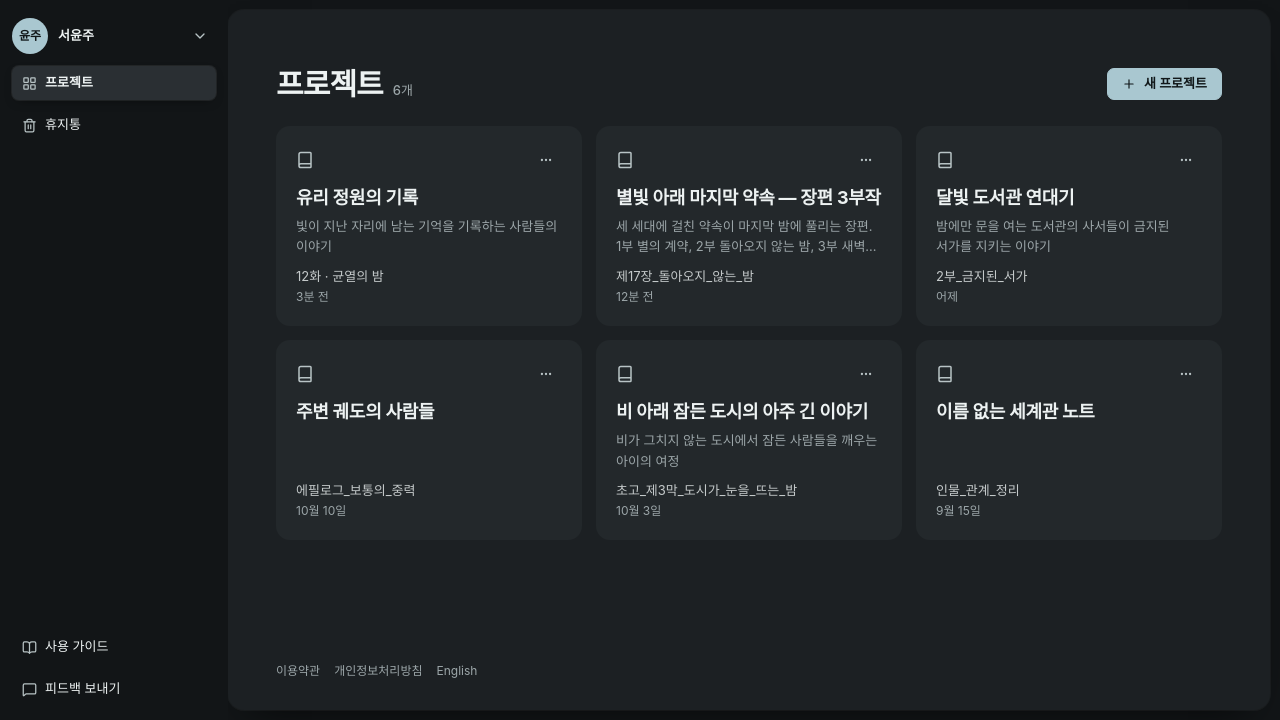
Test case: ProjectListPage › edits the title and description from the card menu
The width and height of the screenshot is (1280, 720).
Click the button named "달빛 도서관 연대기 더보기": [1186, 160] box [1170,144,1202,176]
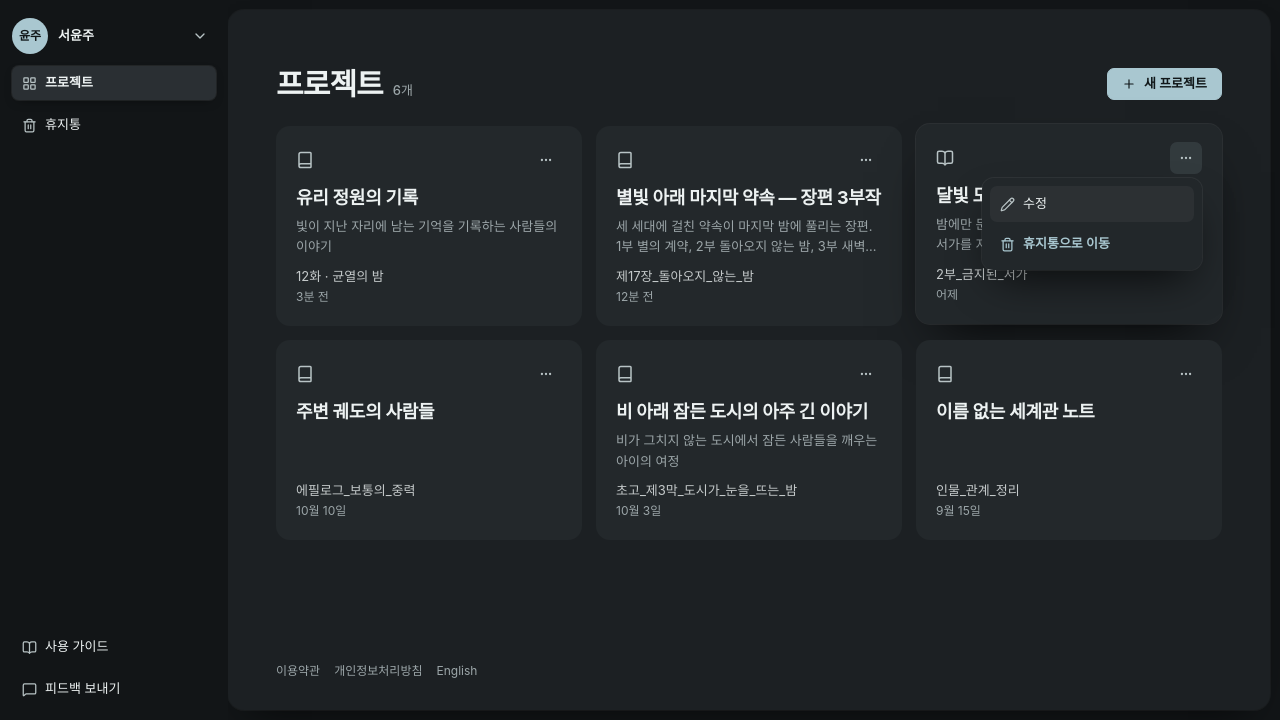
Click the menu item "수정": [1092, 204] box [990,186,1194,222]
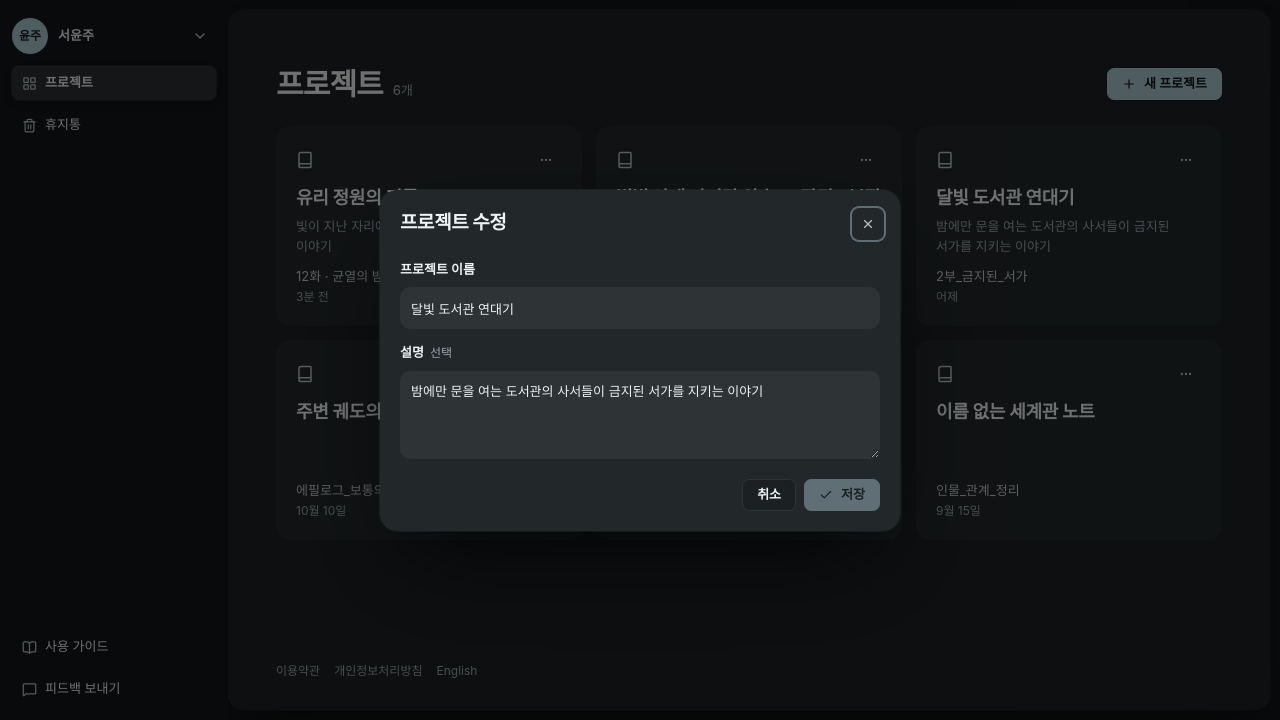
Expected: the button "저장" is disabled, [804,478,880,510]
Replace the text in the text box labelled "설명" with "  금지된 서가를 지키는 사서들  ": [640, 414] box [400,370,880,458]
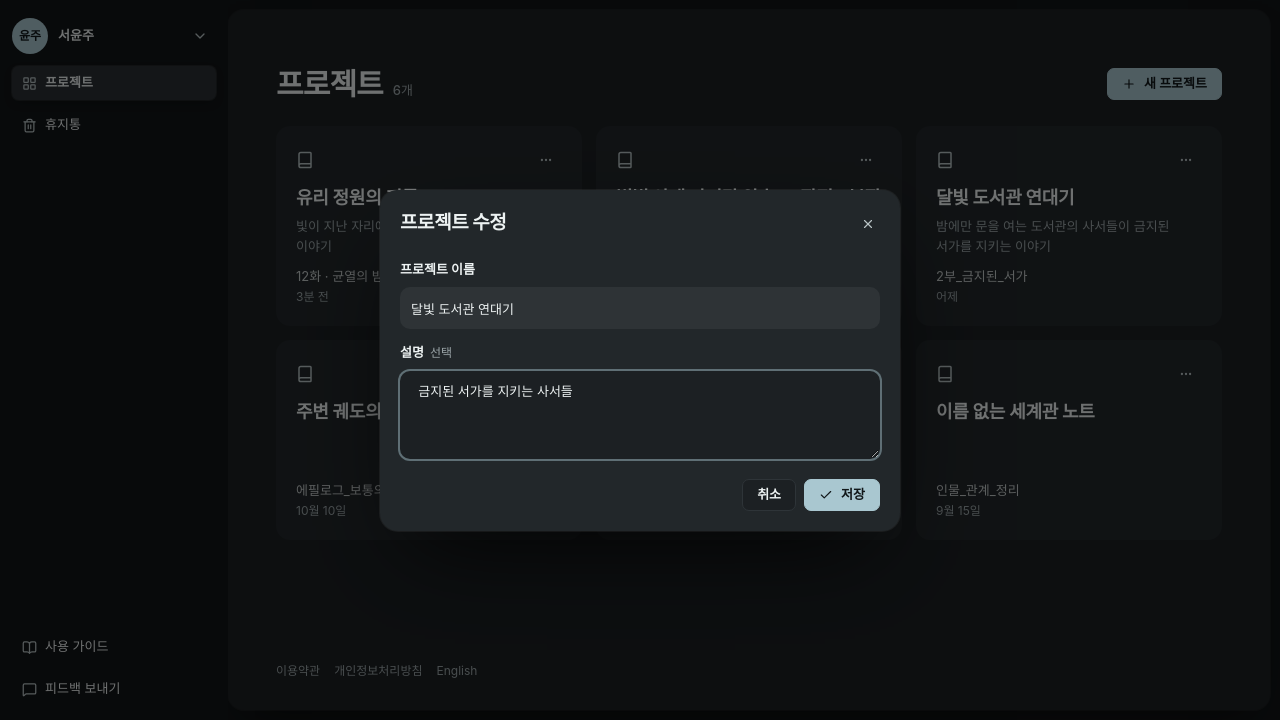
Click the button "저장": [842, 494] box [804,478,880,510]
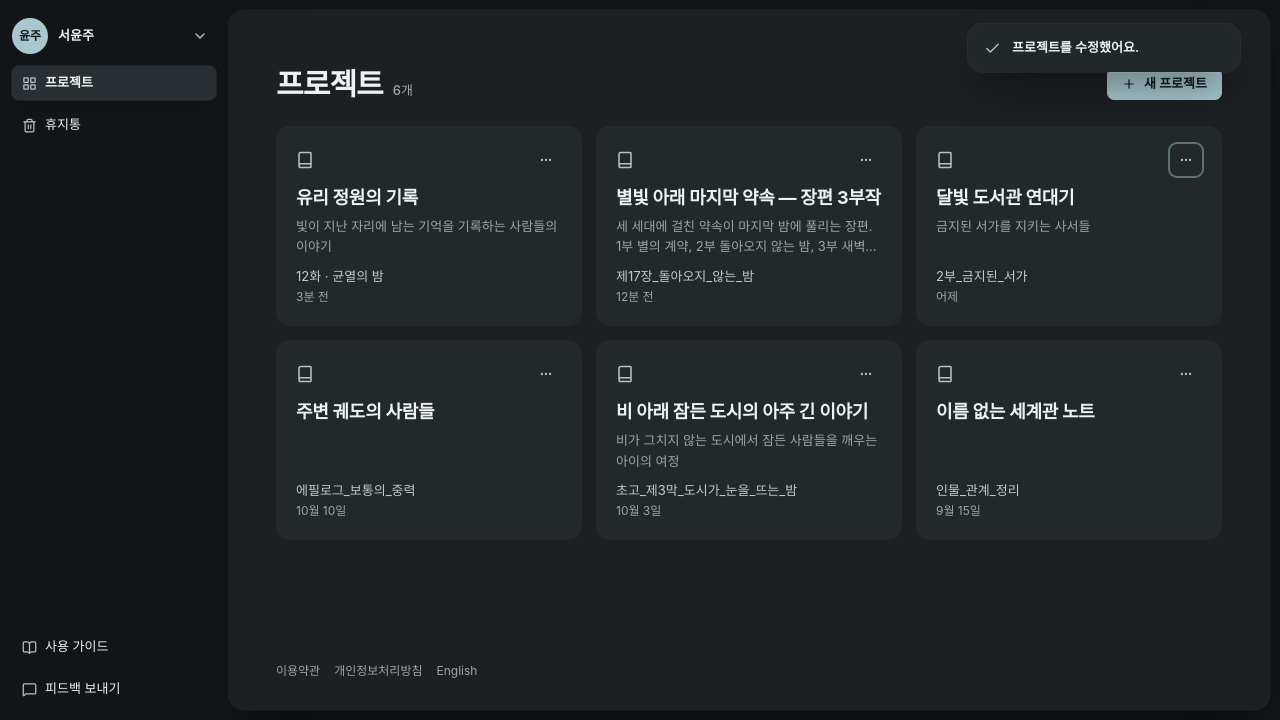
Expected: the text "금지된 서가를 지키는 사서들" is shown, [936,218,1090,234]
Expected: the text "프로젝트를 수정했어요." is shown, [1012,39,1139,55]
